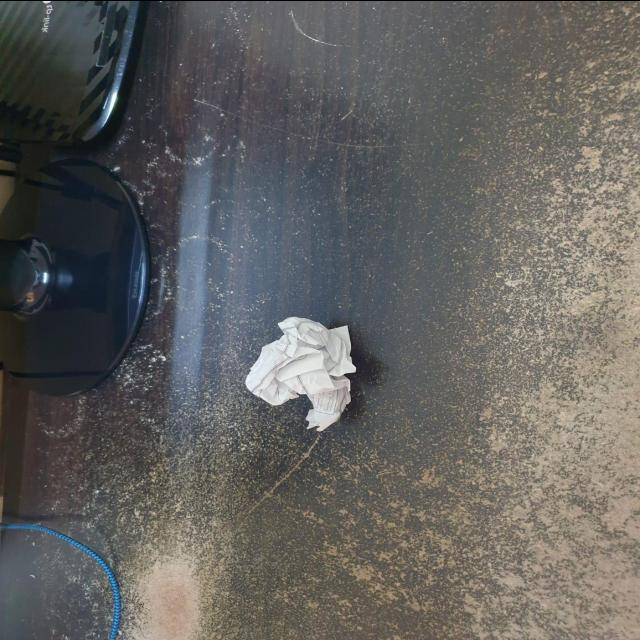kertas: (240, 318, 364, 436)
